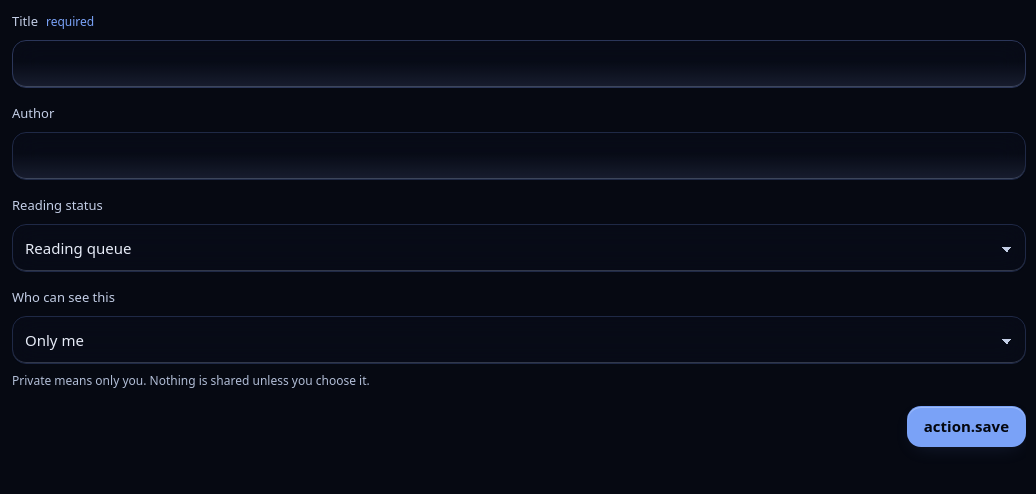
Test case: RecordForm › refuses to submit when a required field is empty, and says which one
Click the button "action.save". click: click(966, 426)
box: [907, 406, 1026, 446]
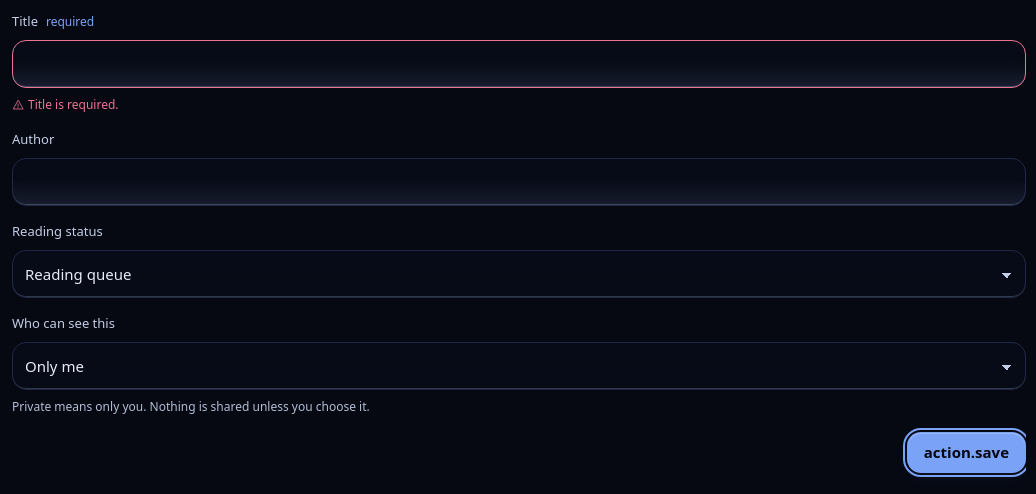
Result: the message "Title is required." is shown at [12, 96, 118, 113]
